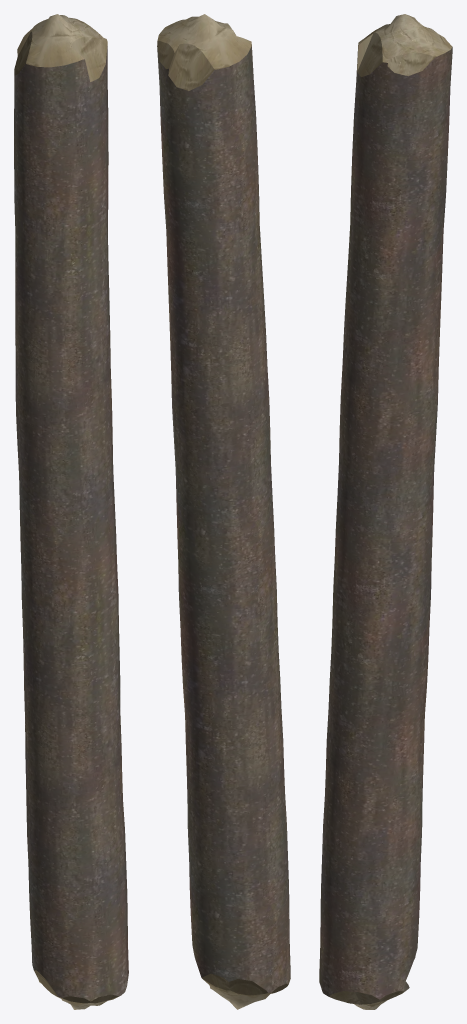
3 views of the same model, side by side, from view 1: azimuth 90°, elevation 25°; view 2: azimuth 150°, elevation 25°; view 3: azimuth 330°, elevation 25° (orthographic).
Visible parts, largest first — view 1: SM_BM_Ash_Tree_02_half_mid_LOD0; view 2: SM_BM_Ash_Tree_02_half_mid_LOD0; view 3: SM_BM_Ash_Tree_02_half_mid_LOD0.
Part boxes in pixels (x1,y1,x2,y2): SM_BM_Ash_Tree_02_half_mid_LOD0: (14,14,128,1009); SM_BM_Ash_Tree_02_half_mid_LOD0: (157,14,290,1009); SM_BM_Ash_Tree_02_half_mid_LOD0: (319,14,452,1009).
Bounding box in the file's own units: 0.5105 × 4.37 × 0.4618.
1 material, 1 textured.
